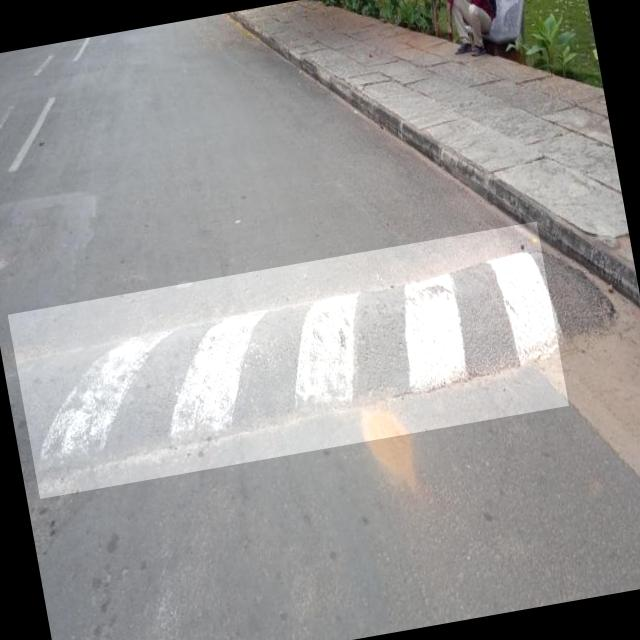bump: (8, 221, 568, 498)
